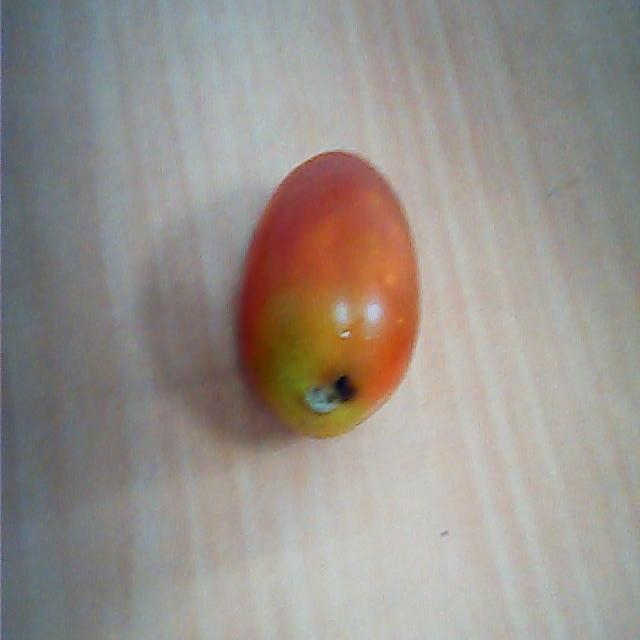defectuoso: (234, 145, 422, 439)
